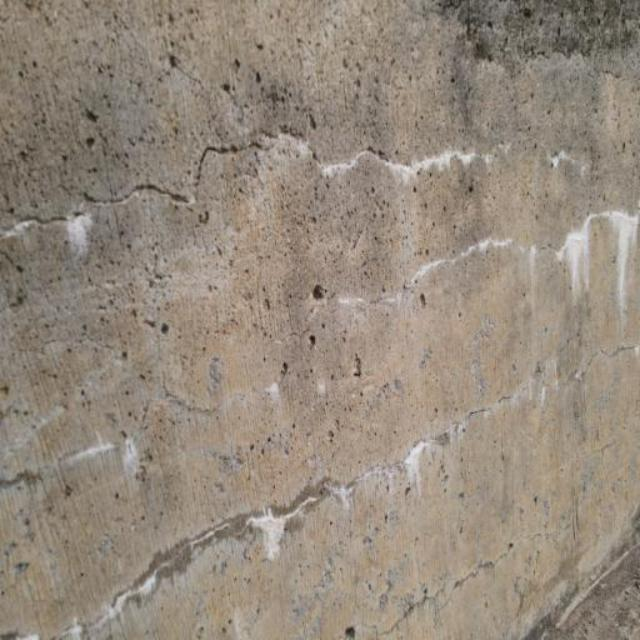D01: (558, 210, 639, 313), (562, 214, 597, 294), (102, 570, 156, 618), (62, 214, 93, 257), (406, 438, 433, 486), (62, 438, 115, 462), (62, 442, 116, 462)
